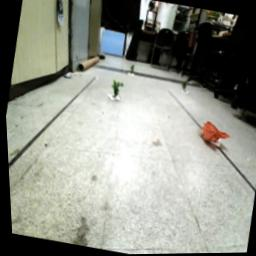herb: (109, 81, 127, 100), (181, 83, 189, 93), (130, 66, 136, 75)
wild: (197, 120, 234, 147)
